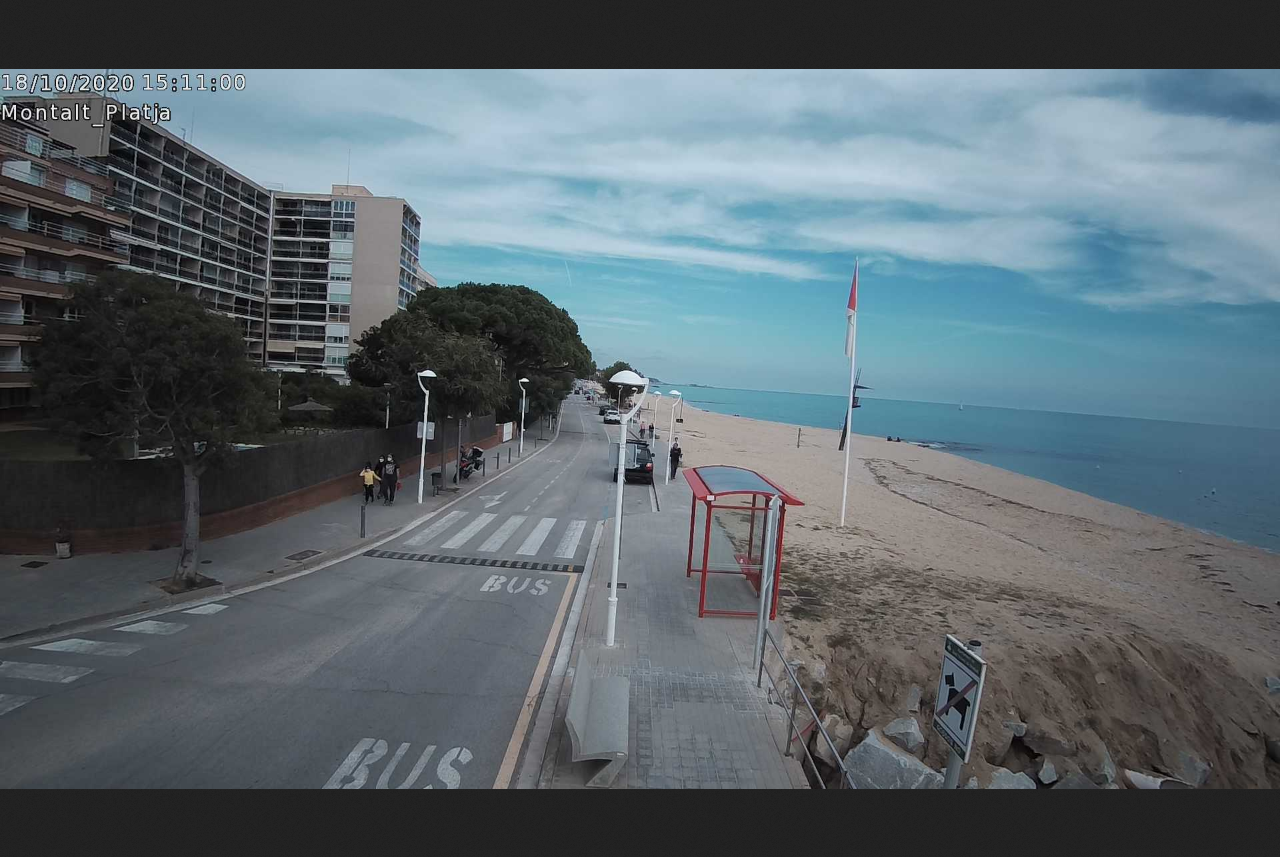no: (838, 254, 865, 358)
